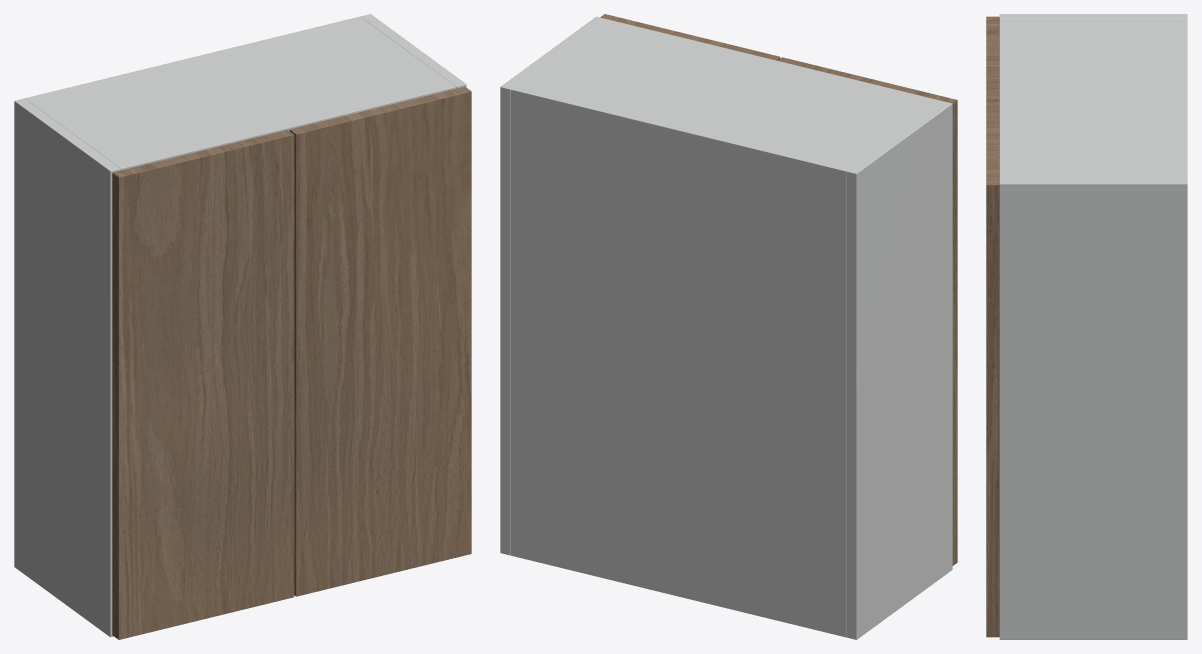
File: oppein-pb-mnw-w2430.glb
The picture shows the model from 3 angles, left to right: view 1: azimuth 30°, elevation 25°; view 2: azimuth 150°, elevation 25°; view 3: azimuth 270°, elevation 25°; orthographic projection. The views are drawn at different scales.
Visible parts, largest first — view 1: Door, Door.001, Cabinet side, Cabinet top, Cabinet back, Cabinet side.001; view 2: Cabinet back, Cabinet side, Cabinet top, Cabinet side.001, Door, Cabinet bottom, Door.001; view 3: Cabinet side.001, Cabinet top, Door.001, Cabinet back, Door, Cabinet side.
Boxes of the visible parts, x1,y1,x2,y2 form: Door: (112, 130, 294, 639); Door.001: (289, 86, 471, 596); Cabinet side: (14, 98, 120, 637); Cabinet top: (25, 19, 455, 170); Cabinet back: (25, 16, 363, 100); Cabinet side.001: (360, 14, 466, 88); Cabinet back: (511, 86, 849, 636); Cabinet side: (846, 101, 952, 639); Cabinet top: (511, 19, 941, 180); Cabinet side.001: (500, 16, 606, 555); Door: (777, 57, 957, 565); Cabinet bottom: (511, 545, 846, 637); Door.001: (600, 14, 780, 60); Cabinet side.001: (999, 179, 1187, 639); Cabinet top: (999, 19, 1187, 178); Door.001: (986, 101, 999, 637); Cabinet back: (1180, 19, 1187, 178); Door: (986, 16, 999, 101); Cabinet side: (999, 14, 1187, 18).
Bounding box in the file's own units: 0.6096 × 0.762 × 0.3048.
Materials: 2 (1 with a texture image).
